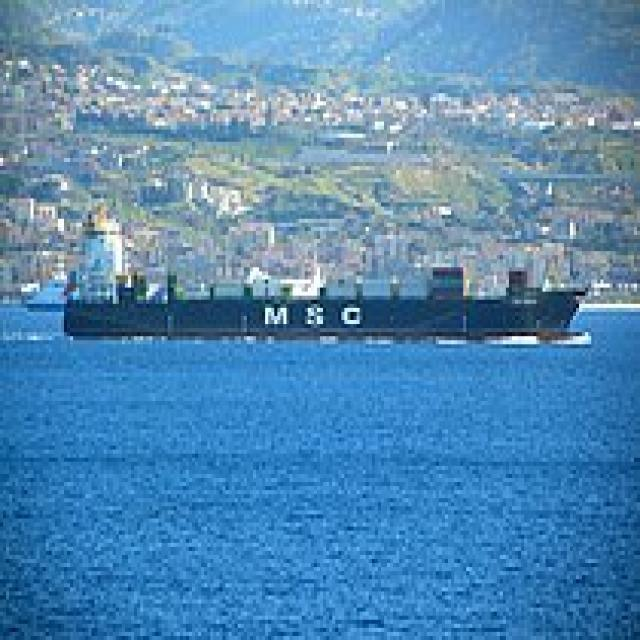Ship: (56, 244, 596, 354)
